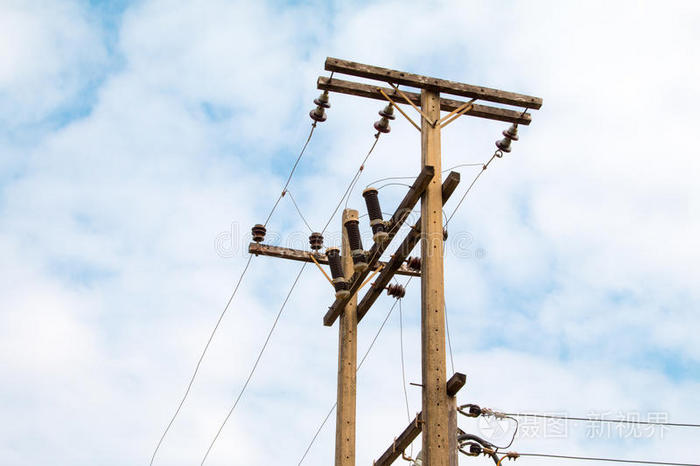insulator: (307, 97, 334, 123), (374, 106, 396, 134), (495, 128, 518, 153)
